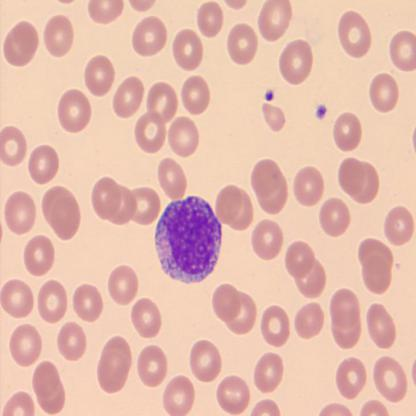Myelocyte: (157, 196, 224, 282)
